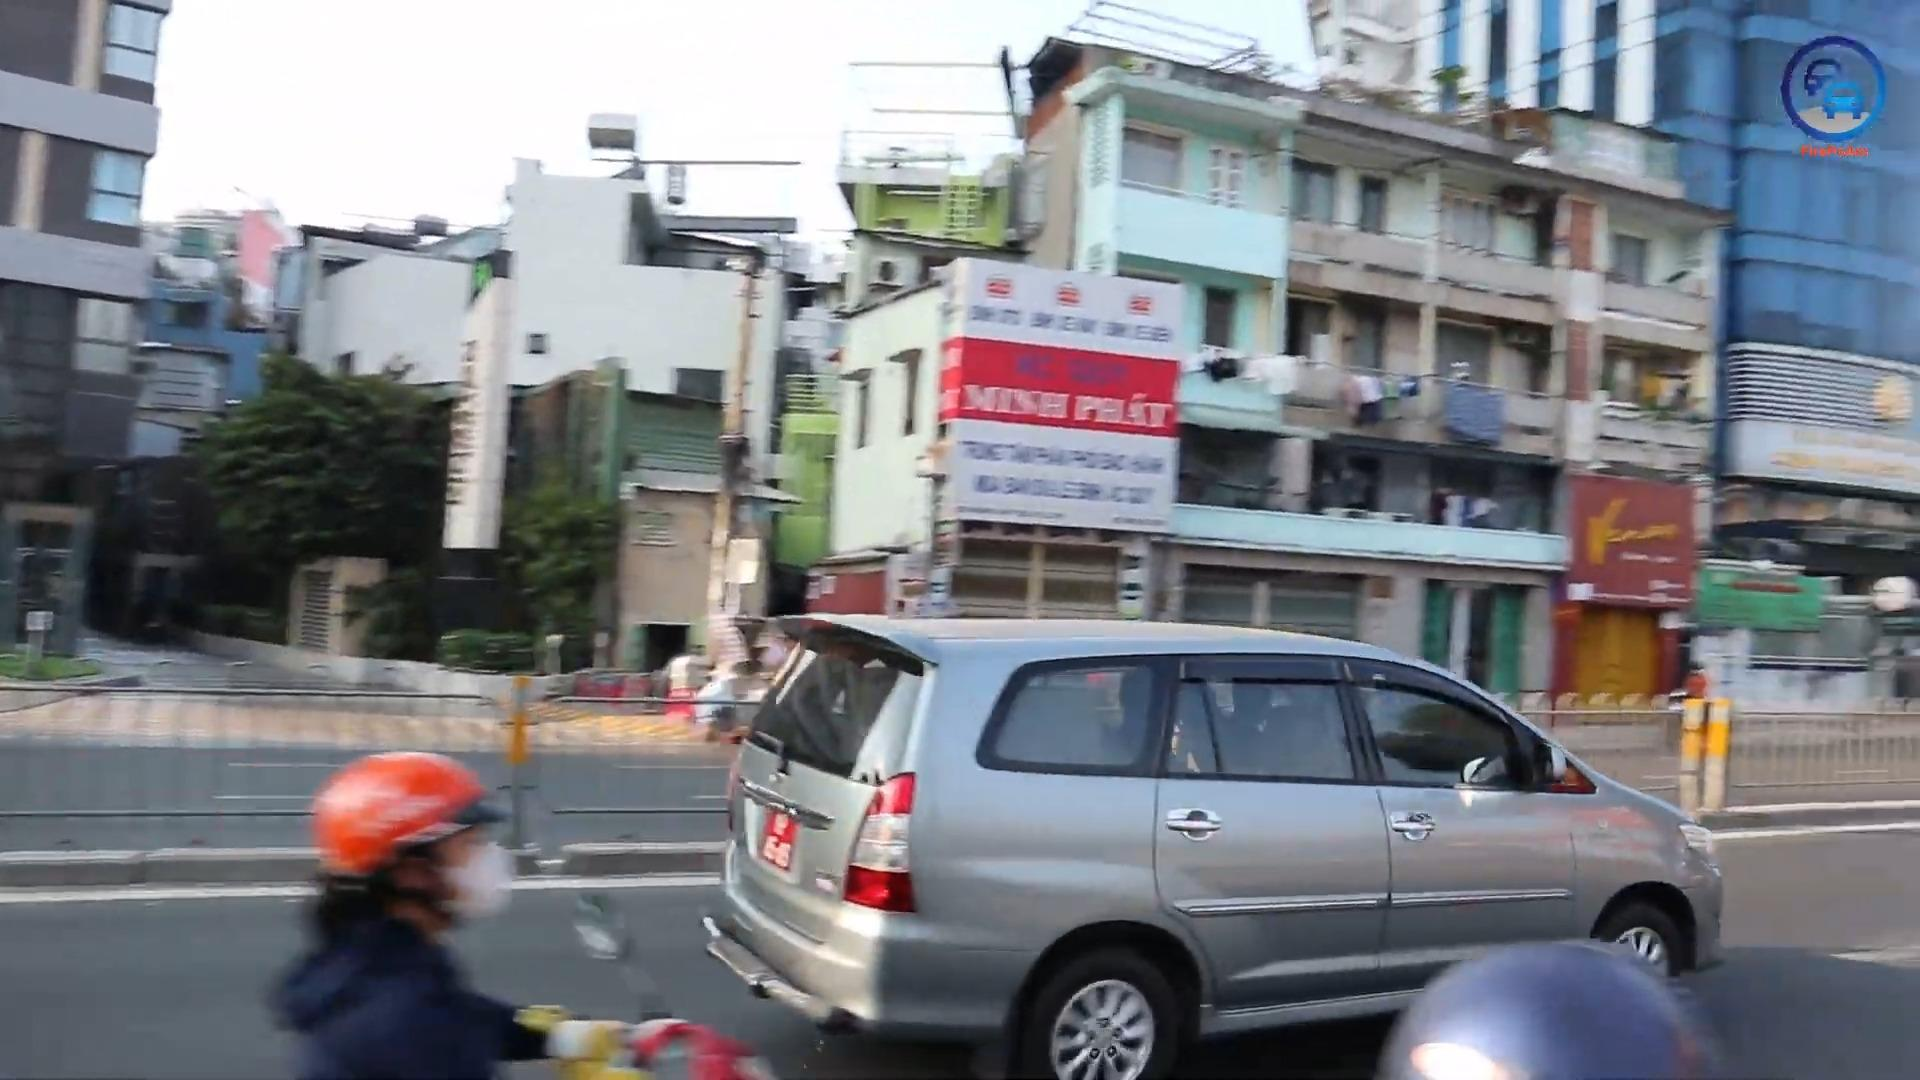bien_so: (754, 805, 802, 874)
